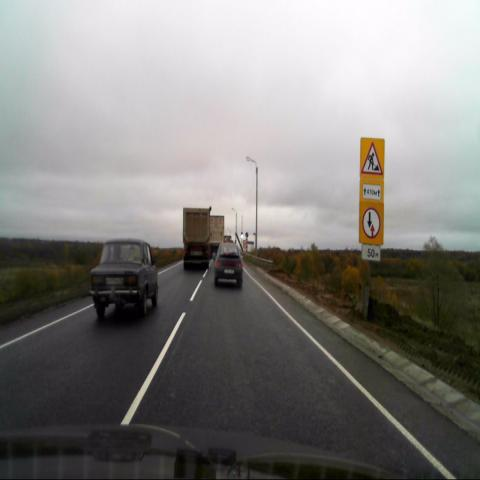2_6: (359, 205, 383, 245)
8_1_1: (362, 246, 380, 261)
